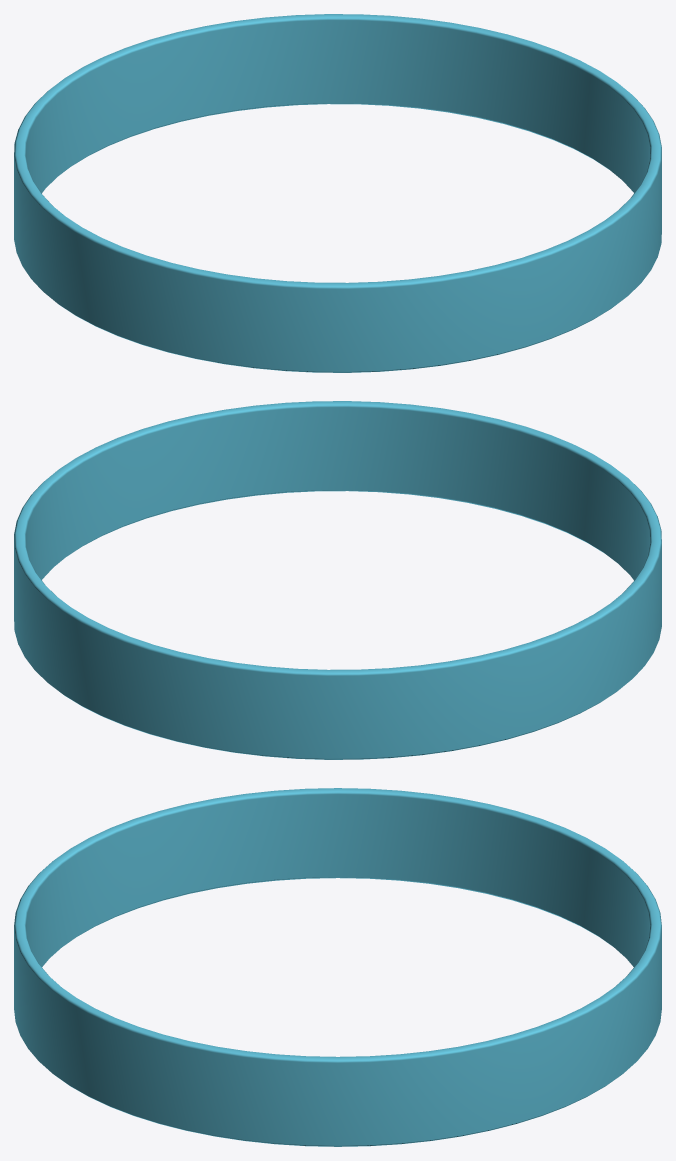
3 renders of one model, top to bottom at view 1: azimuth 30°, elevation 25°; view 2: azimuth 150°, elevation 25°; view 3: azimuth 270°, elevation 25°, orthographic.
Parts seen in each view (by area): view 1: seal_body; view 2: seal_body; view 3: seal_body.
Boxes of the visible parts, left/top/right/bottom form: seal_body: left=14, top=14, right=661, bottom=372; seal_body: left=14, top=401, right=661, bottom=759; seal_body: left=14, top=788, right=661, bottom=1146.
Size of the model in its own units: 0.1715 by 0.0254 by 0.1715.
